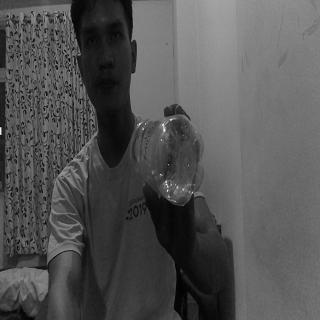plastic_bottles: (130, 116, 206, 208)
